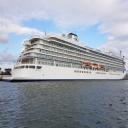cruises: (3, 31, 128, 84)
